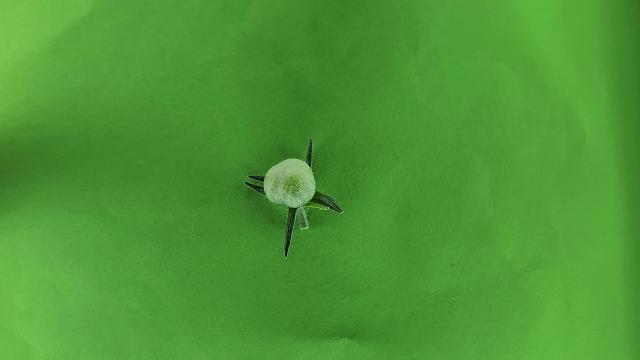Fruit Maturation: (262, 158, 318, 208)
